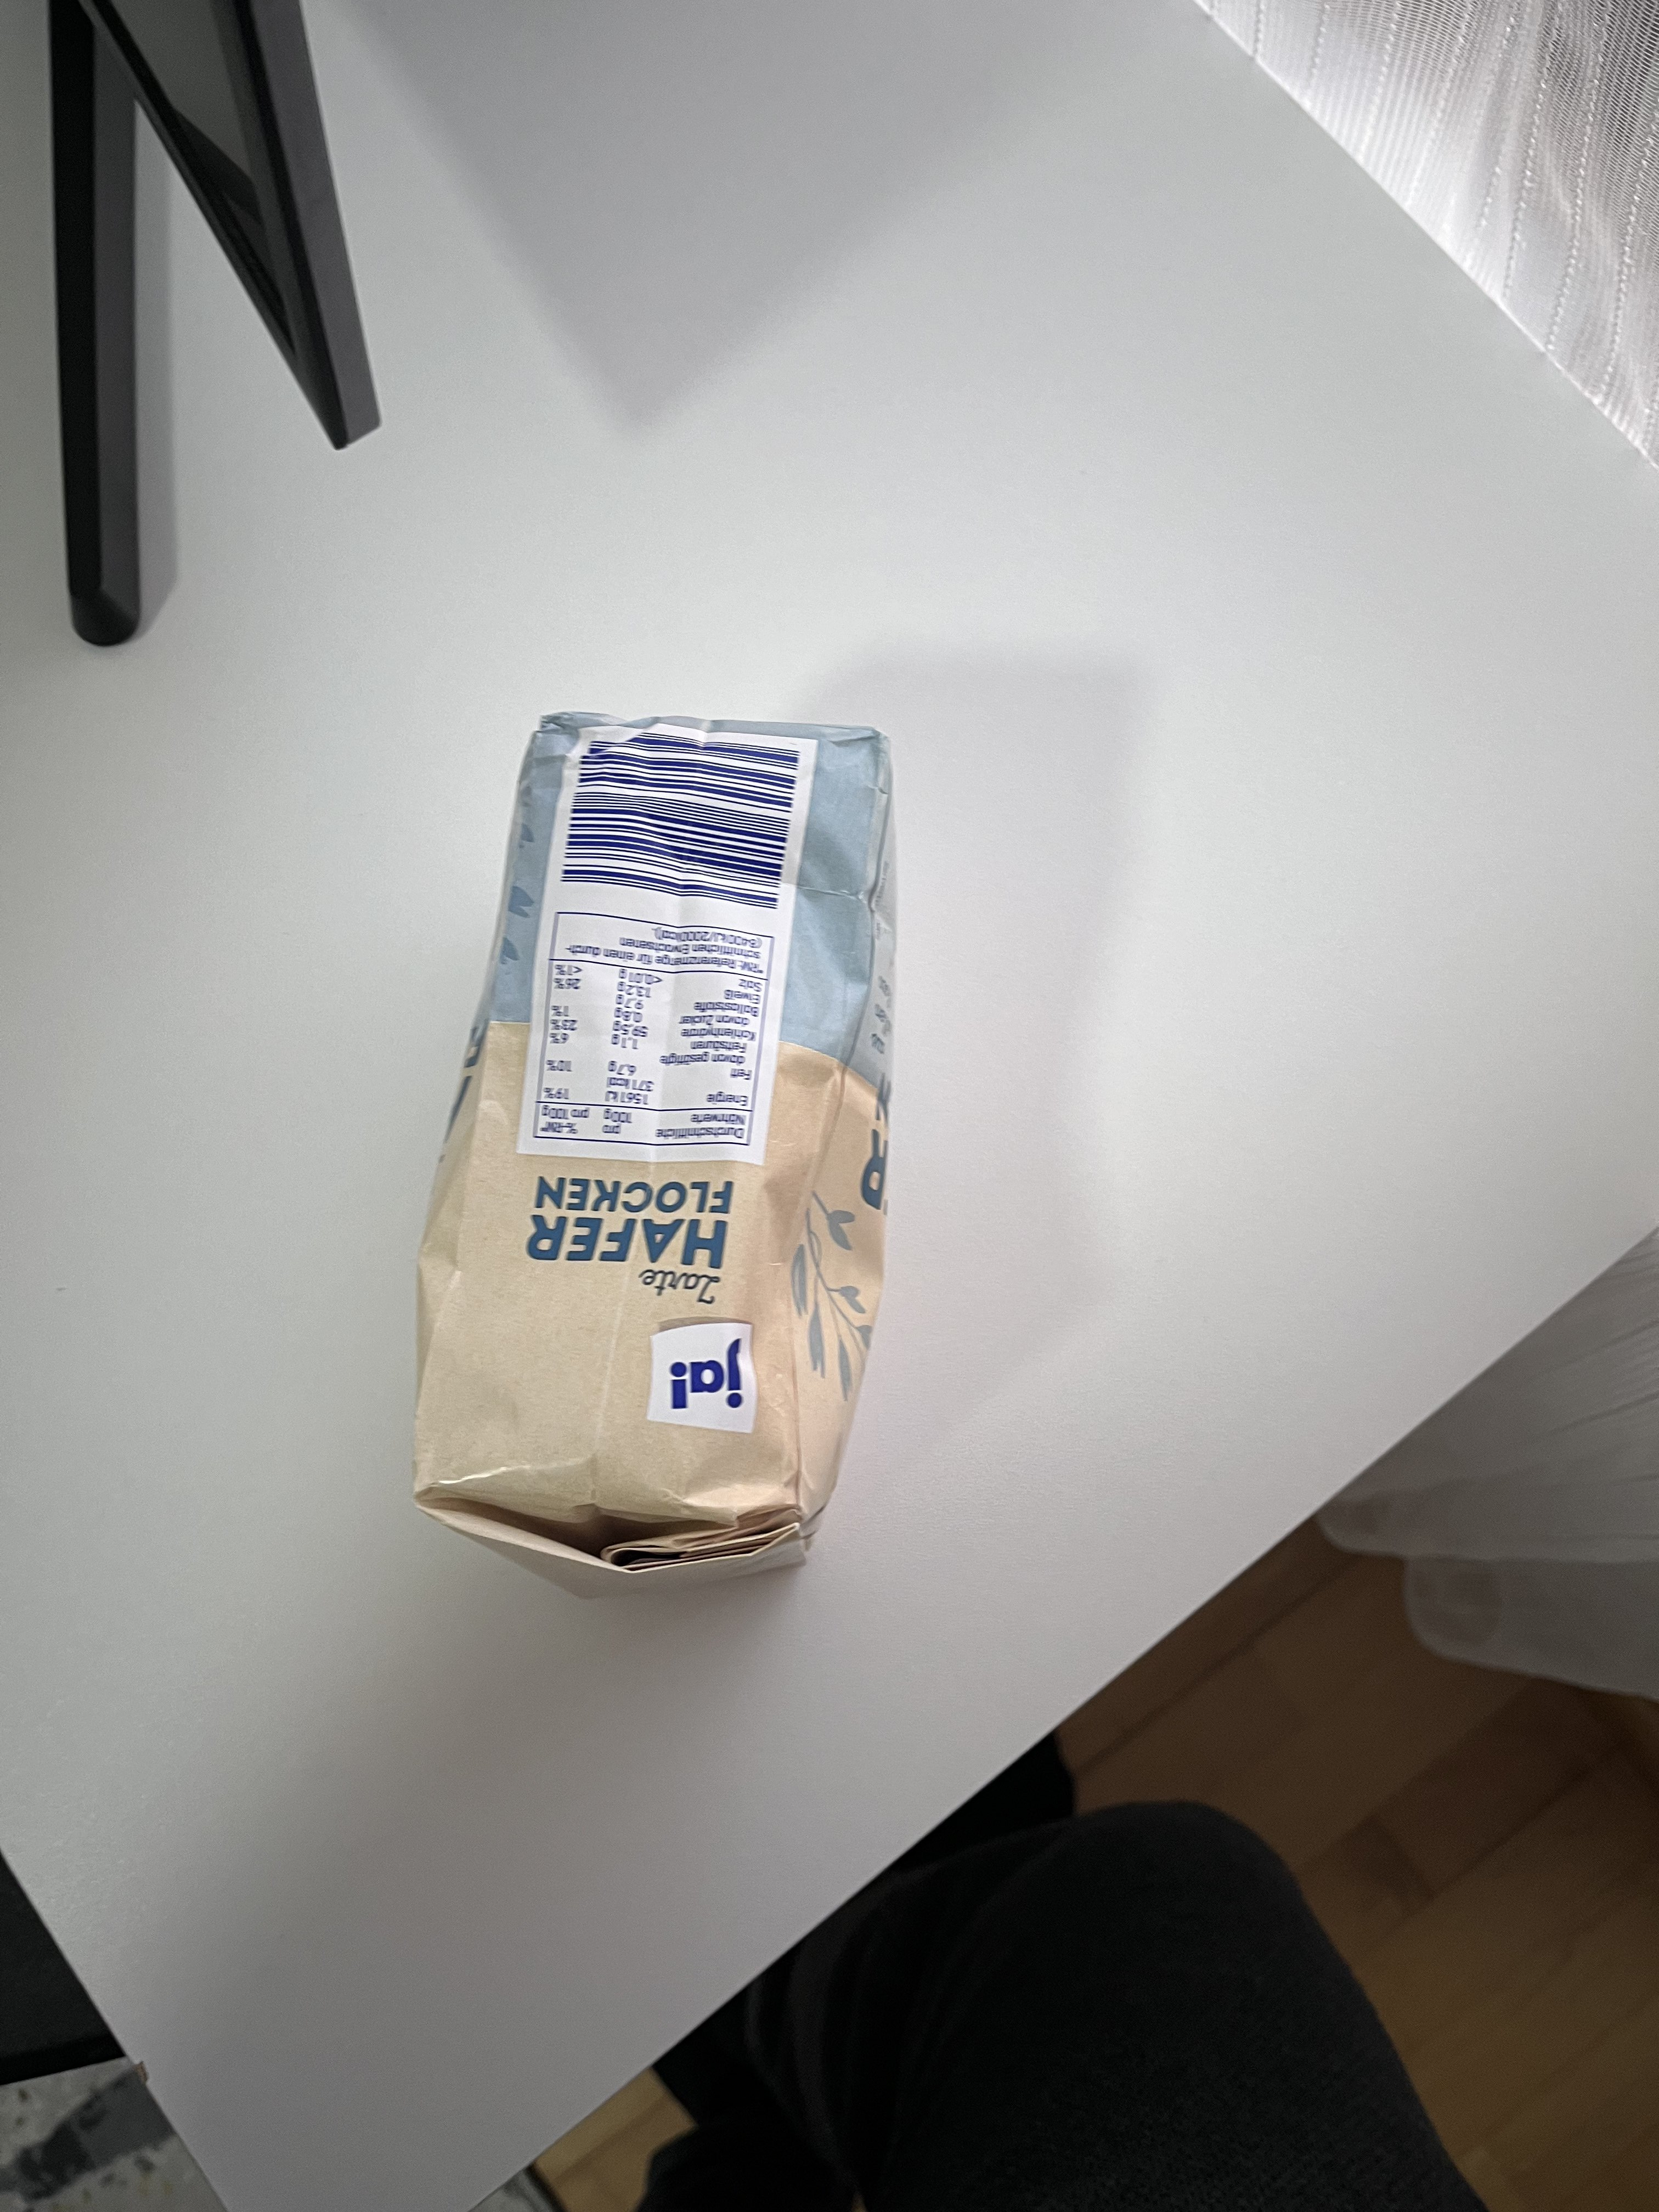haferflocken_ja: (404, 711, 892, 1587)
